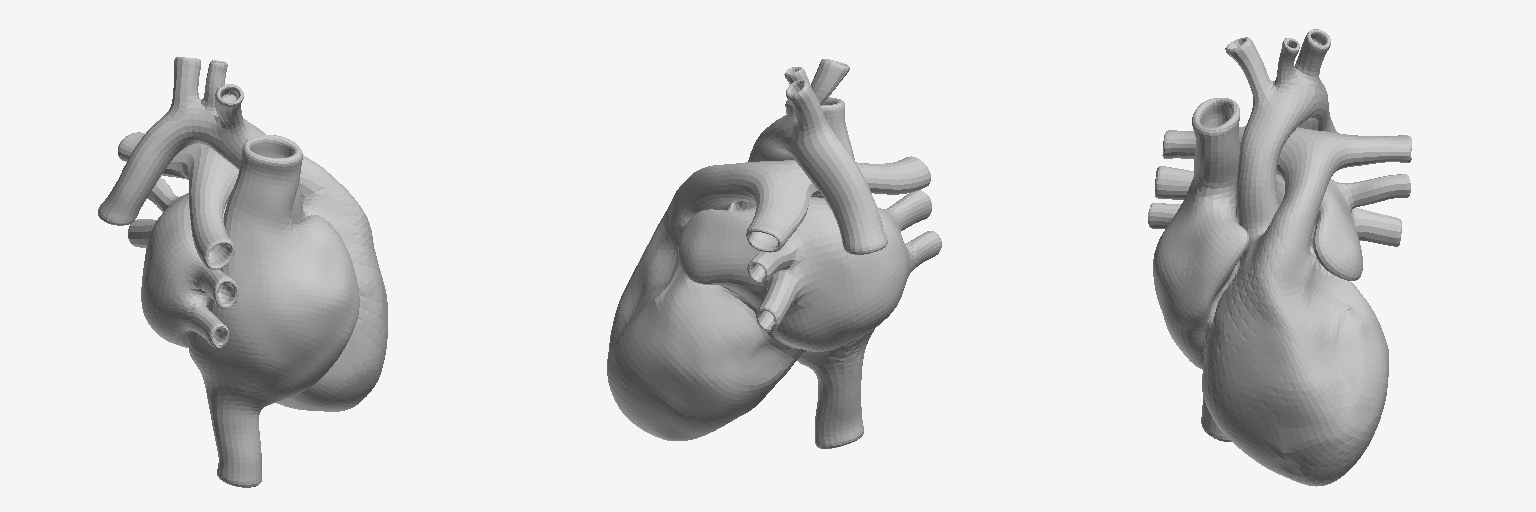
3 views of the same model, side by side, from view 1: azimuth 30°, elevation 25°; view 2: azimuth 150°, elevation 25°; view 3: azimuth 270°, elevation 25° (orthographic).
Visible parts, largest first — view 1: HEART_PRO; view 2: HEART_PRO; view 3: HEART_PRO.
Part boxes in pixels (x1,y1,x2,y2): HEART_PRO: (98, 57, 387, 487); HEART_PRO: (607, 59, 941, 448); HEART_PRO: (1148, 29, 1411, 486).
Bounding box in the file's own units: 587 × 825 × 496.